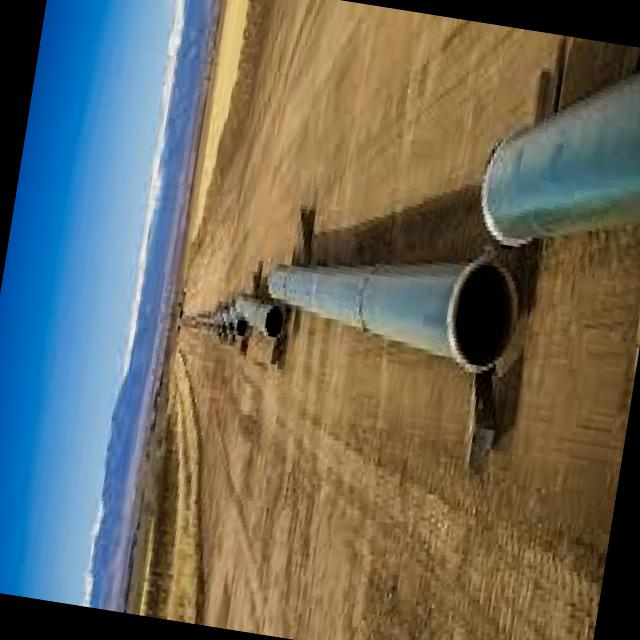gas: (268, 256, 518, 372), (483, 71, 640, 244), (237, 300, 283, 338)
